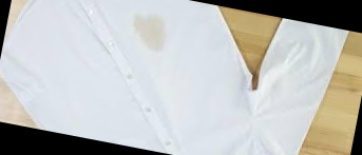coffee: (128, 11, 172, 54)
